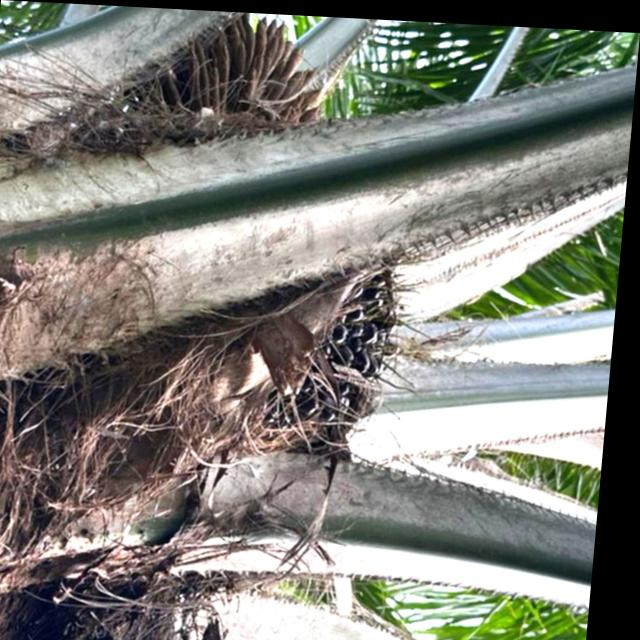almost: (222, 246, 450, 464)
